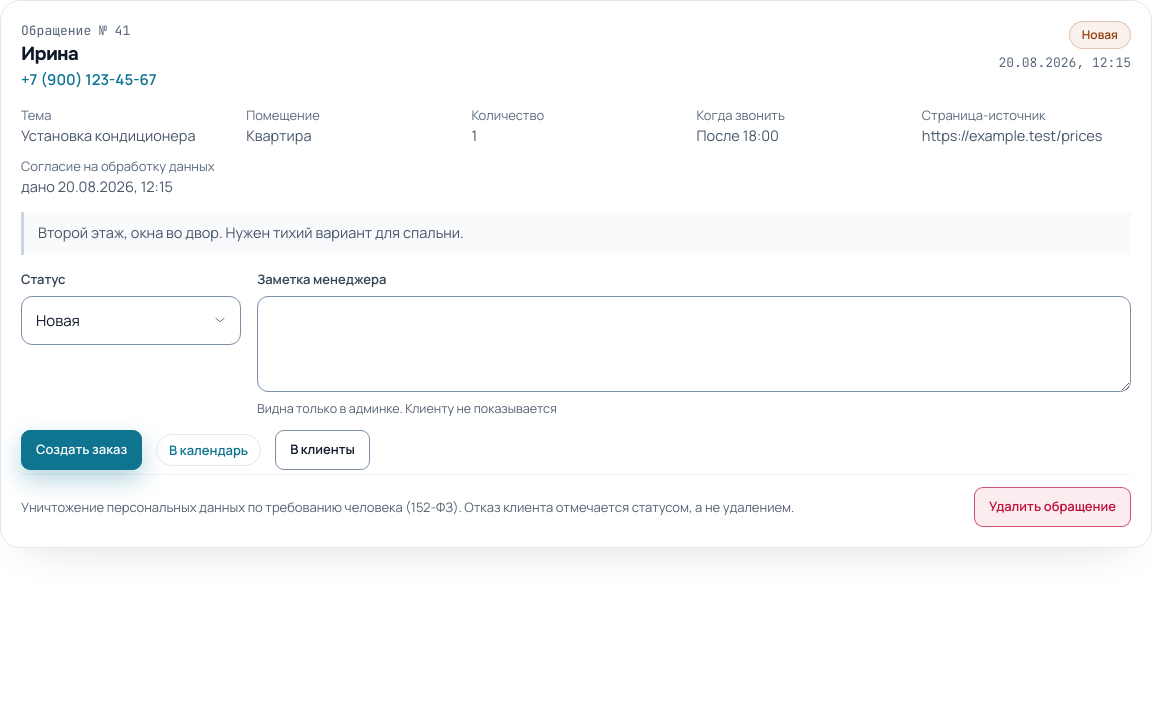
Test: Карточка заявки › 🔴 знакомый номер не заводит второго человека — об этом говорят прямо
Click the button "В клиенты": (322, 450) [275,430,370,470]
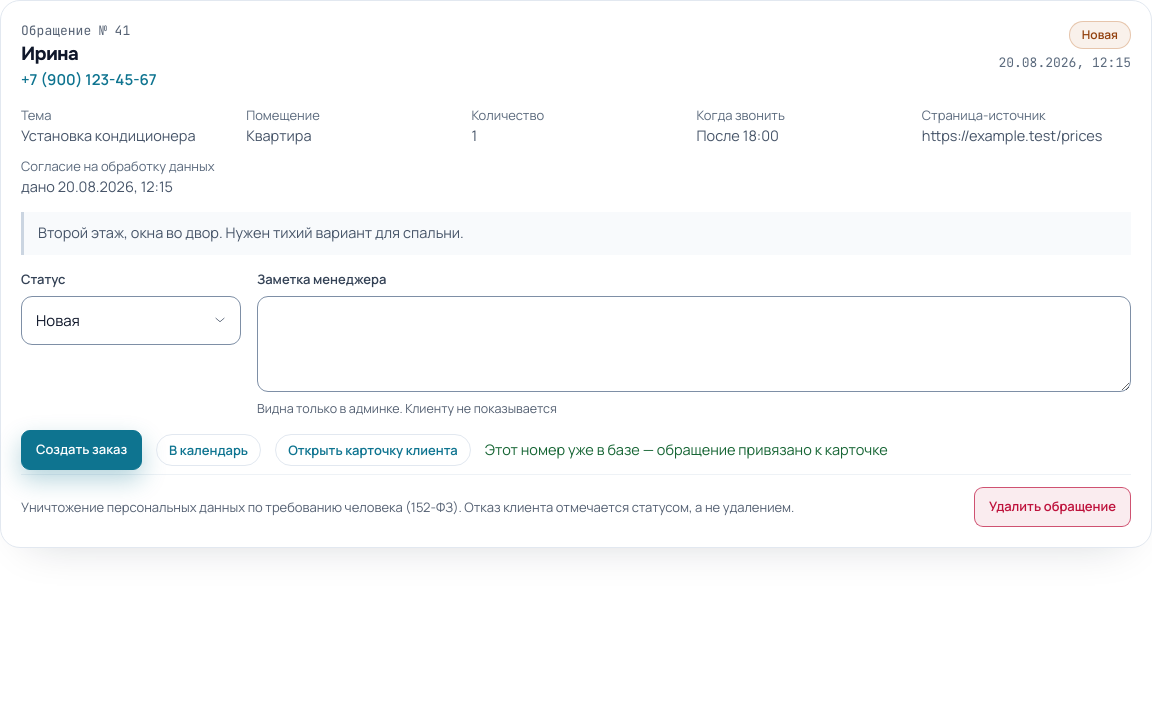
Expected: the text "Этот номер уже в базе — обращение привязано к карточке" is shown, [485,439,888,462]
